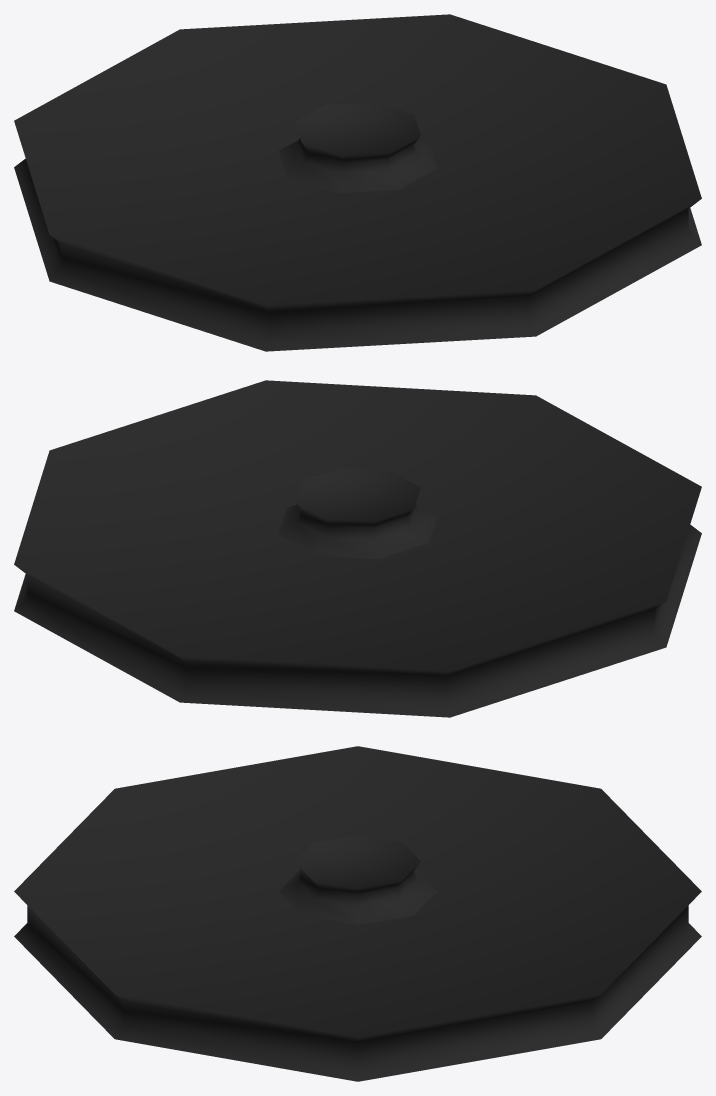
File: dire-wolf-shield.glb
The picture shows the model from 3 angles, top to bottom: view 1: azimuth 30°, elevation 25°; view 2: azimuth 150°, elevation 25°; view 3: azimuth 270°, elevation 25°; orthographic projection. The views are drawn at different scales.
Parts seen in each view (by area): view 1: dire_wolf_shield; view 2: dire_wolf_shield; view 3: dire_wolf_shield.
Part boxes in pixels (x1,y1,x2,y2): dire_wolf_shield: (14, 14, 701, 351); dire_wolf_shield: (14, 380, 701, 717); dire_wolf_shield: (14, 746, 701, 1081).
Bounding box in the file's own units: 0.8325 × 0.1 × 0.8325.
1 material, 1 textured.
